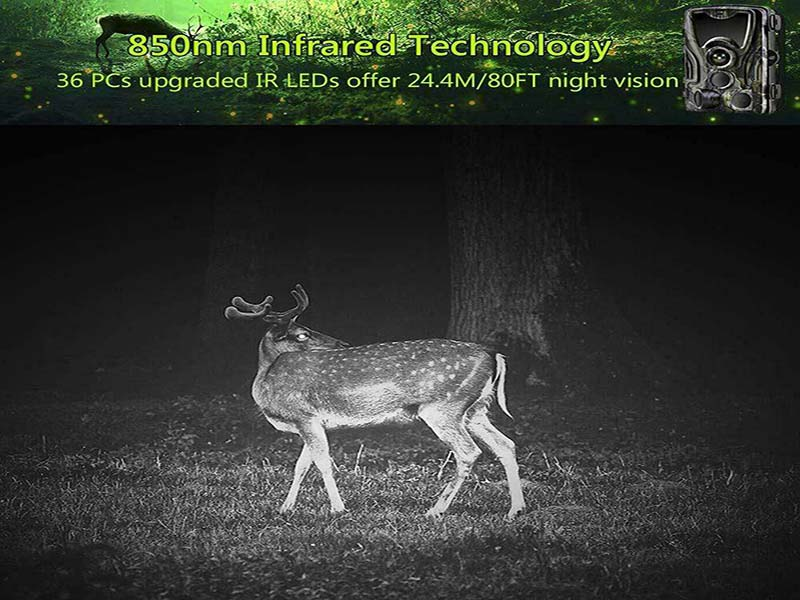cervo: (224, 285, 533, 527)
